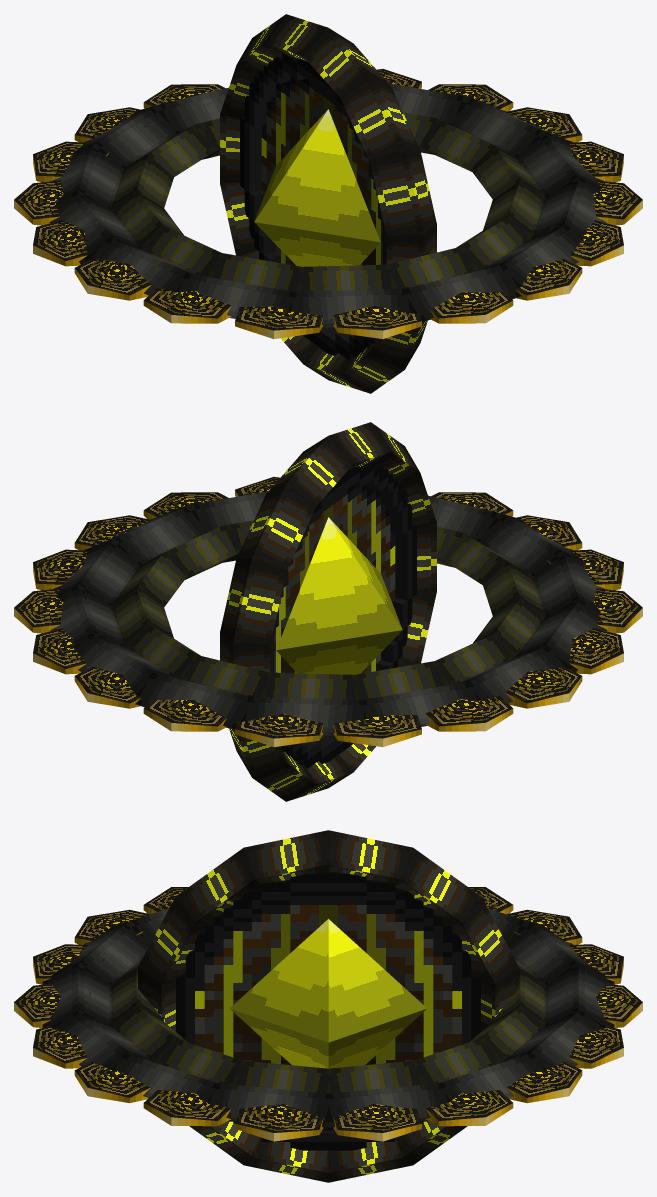
The model's file is Assault3DModel.fbx.
3 views of the same model, one above another, from view 1: azimuth 30°, elevation 25°; view 2: azimuth 150°, elevation 25°; view 3: azimuth 270°, elevation 25° (orthographic).
Visible parts, largest first — view 1: torus_2, torus_1, torus, sphere, cuboid_6, cuboid_5, cuboid_7, cuboid_8, cuboid_9, cuboid_4, cuboid_15, cuboid_16 (+16 smaller); view 2: torus_2, torus_1, torus, sphere, cuboid_3, cuboid_4, cuboid_2, cuboid_1, cuboid, cuboid_5, cuboid_10, cuboid_11 (+16 smaller); view 3: torus, torus_2, sphere, torus_1, 3Shooter3DModel素材_0, cuboid_13, cuboid_14, 3Shooter3DModel素材_1, 3Shooter3DModel素材_2, cuboid_12, cuboid_17, 3Shooter3DModel素材_3 (+31 smaller).
Part boxes in pixels (<box>): torus_2: <box>49,83,606,328</box>; torus_1: <box>111,112,545,291</box>; torus: <box>220,14,436,393</box>; sphere: <box>254,109,380,266</box>; cuboid_6: <box>143,287,231,323</box>; cuboid_5: <box>74,259,151,300</box>; cuboid_7: <box>235,290,323,338</box>; cuboid_8: <box>333,306,421,338</box>; cuboid_9: <box>430,292,513,323</box>; cuboid_4: <box>33,220,87,266</box>; cuboid_15: <box>504,255,582,300</box>; cuboid_16: <box>547,220,623,266</box>; torus_2: <box>50,491,607,736</box>; torus_1: <box>111,520,545,699</box>; torus: <box>220,422,436,801</box>; sphere: <box>276,517,402,674</box>; cuboid_3: <box>425,695,513,731</box>; cuboid_4: <box>505,667,582,708</box>; cuboid_2: <box>333,698,421,746</box>; cuboid_1: <box>235,714,323,746</box>; cuboid: <box>143,699,226,731</box>; cuboid_5: <box>569,628,623,674</box>; cuboid_10: <box>74,663,152,708</box>; cuboid_11: <box>33,628,109,674</box>; torus: <box>138,830,518,1182</box>; torus_2: <box>42,908,614,1130</box>; sphere: <box>230,919,426,1068</box>; torus_1: <box>111,958,545,1093</box>; 3Shooter3DModel素材_0: <box>290,891,366,1065</box>; cuboid_13: <box>333,1104,421,1141</box>; cuboid_14: <box>235,1104,323,1141</box>; 3Shooter3DModel素材_1: <box>261,900,290,1064</box>; 3Shooter3DModel素材_2: <box>366,900,395,1064</box>; cuboid_12: <box>425,1090,513,1126</box>; cuboid_17: <box>143,1090,231,1126</box>; 3Shooter3DModel素材_3: <box>242,909,261,1062</box>.
Size of the model in its own units: 203 by 128 by 206.
Materials: 6 (6 with a texture image).
